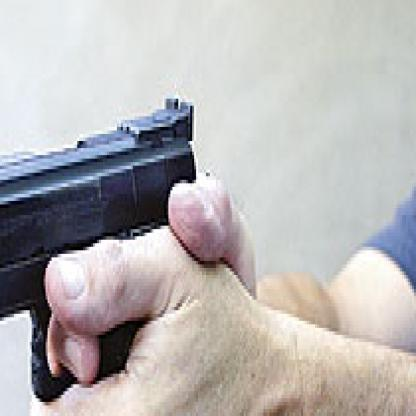gun: (0, 81, 216, 413)
